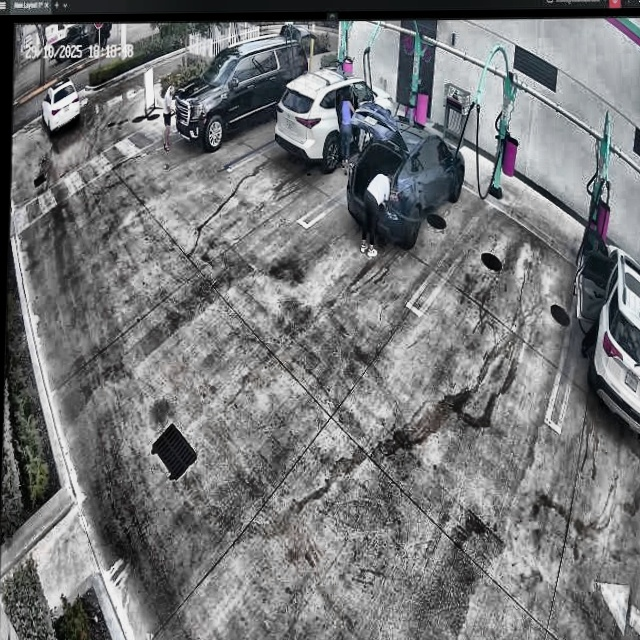Car: (349, 121, 466, 249), (275, 67, 396, 173)
